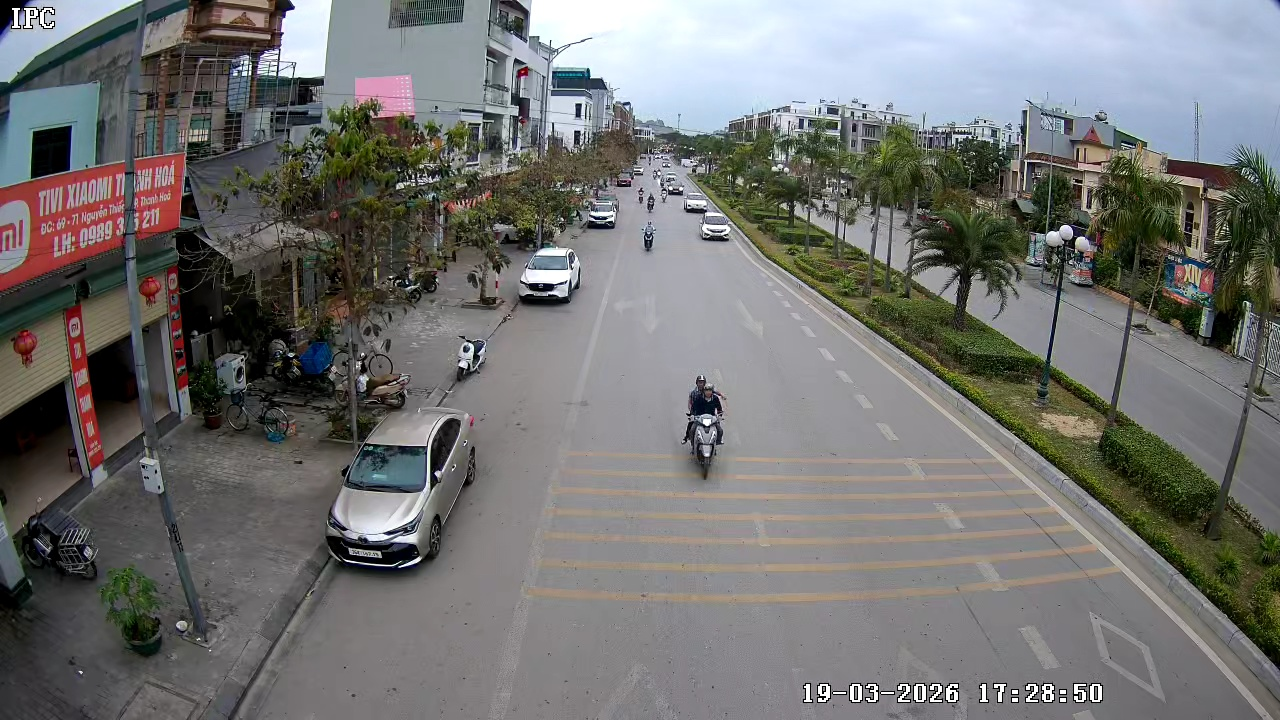car: (325, 404, 478, 571), (518, 245, 582, 304), (582, 196, 619, 228), (698, 211, 732, 242), (660, 171, 684, 196), (682, 193, 706, 214)
motorbike: (679, 372, 729, 480), (354, 339, 413, 411), (453, 331, 487, 383), (640, 219, 656, 252), (647, 192, 659, 214)
